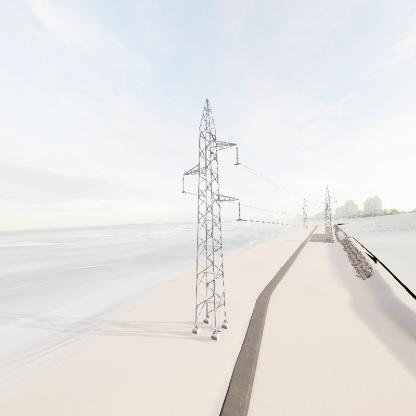tower: (179, 94, 242, 343)
